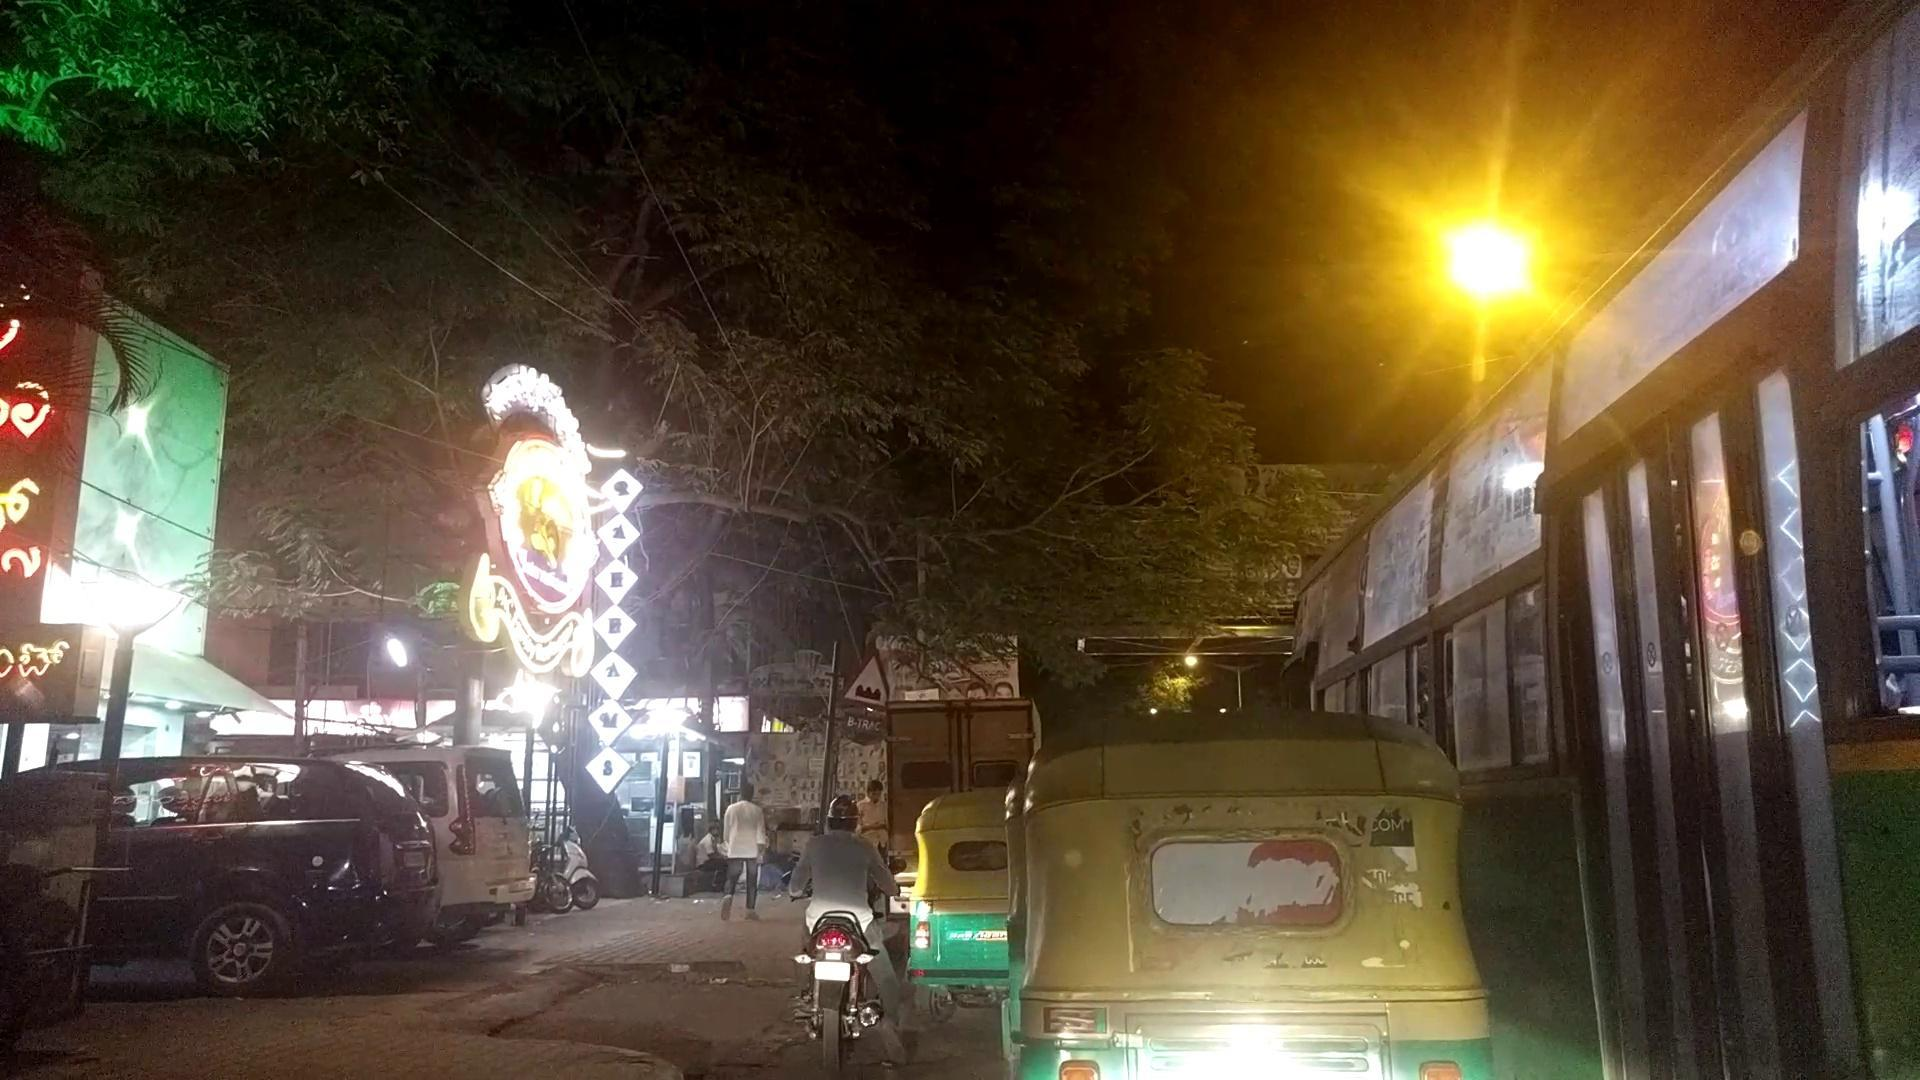on: (30, 42, 1920, 1027)
